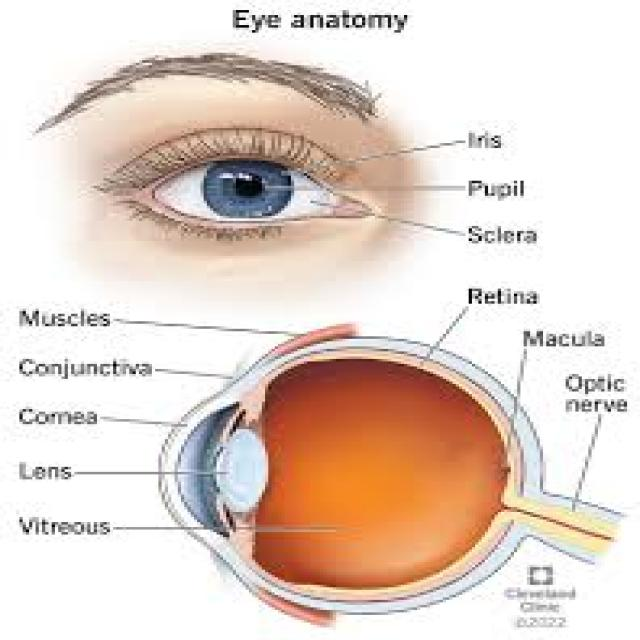Eyes-iris: (194, 146, 299, 227)
